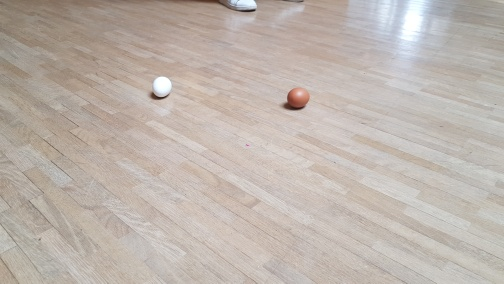egg: (286, 85, 310, 110), (150, 75, 173, 99)
